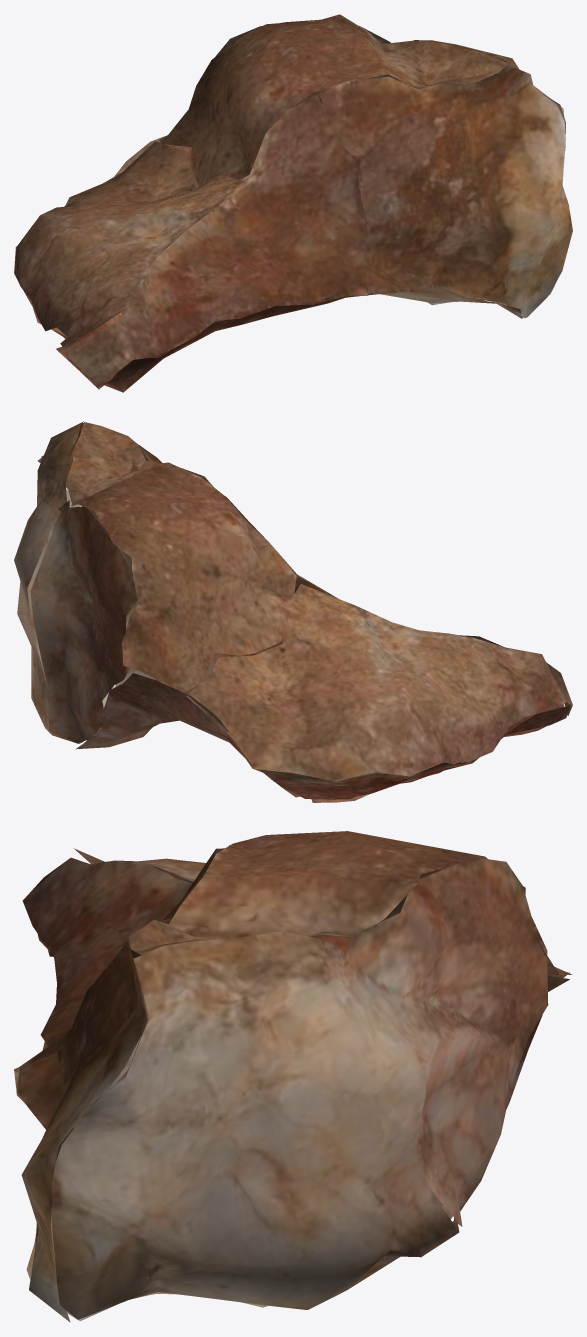
Rendered from stone_01.glb.
3 renders of one model, top to bottom at view 1: azimuth 30°, elevation 25°; view 2: azimuth 150°, elevation 25°; view 3: azimuth 270°, elevation 25°, orthographic. The views are drawn at different scales.
Visible parts, largest first — view 1: lod0; view 2: lod0; view 3: lod0.
Boxes of the visible parts, left/top/right/bottom form: lod0: left=14, top=14, right=572, bottom=392; lod0: left=14, top=421, right=572, bottom=802; lod0: left=14, top=831, right=572, bottom=1322.
Size of what is drawn, in the model's own units: 0.1474 by 0.0712 by 0.0888.
Materials: 1 (1 with a texture image).
